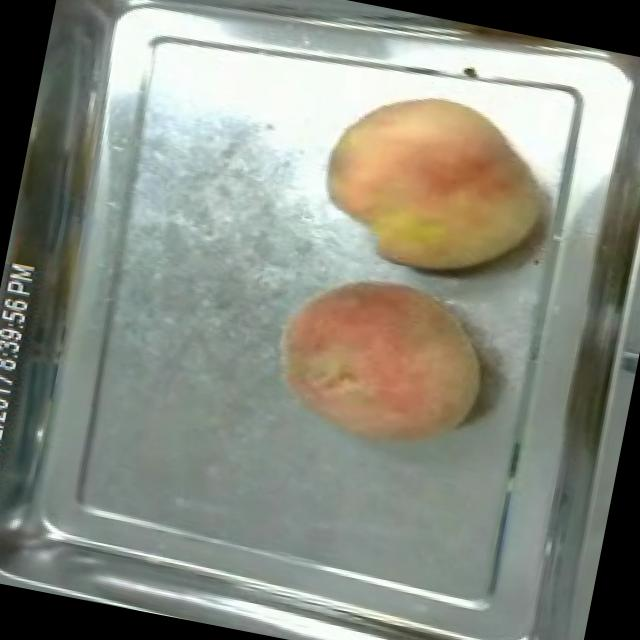Fruit: (302, 65, 568, 300), (256, 252, 504, 468)
